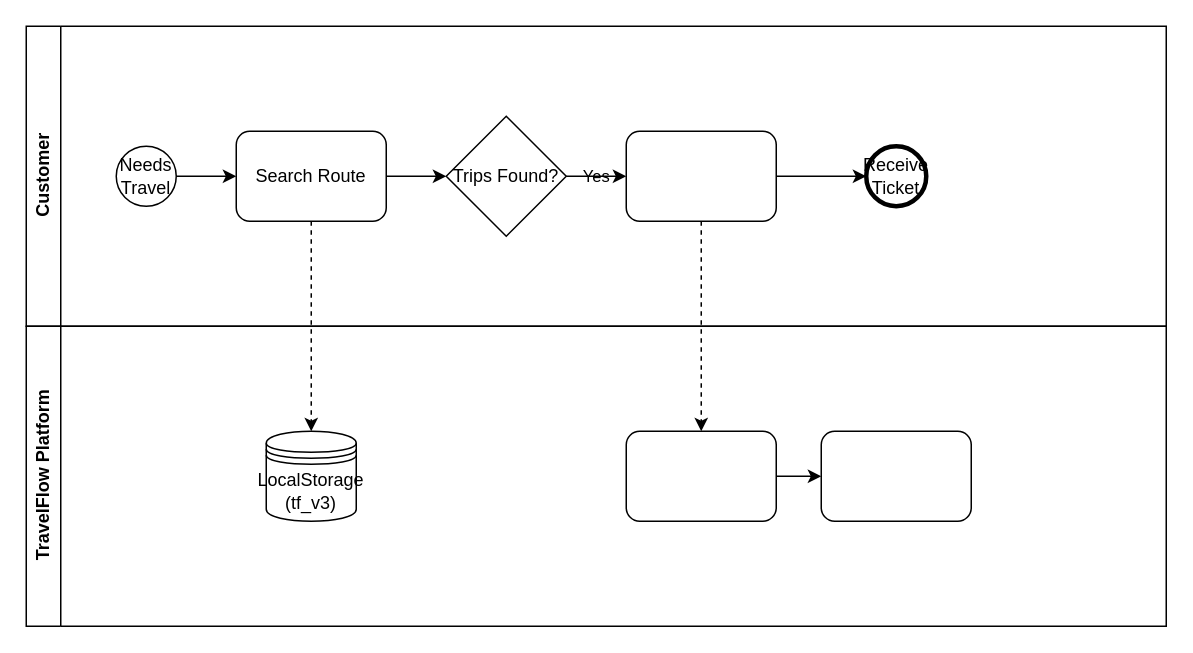
Some shapes in this 1193 by 653 pixel diagram are drawn without their labels. The centre of each missing label's shape, as x and y in pixels:
"EmailJS Service" belongs at pixel 895 475.
"Enter Card Details" belongs at pixel 700 175.
"Luhn Algorithm Check" belongs at pixel 700 475.
